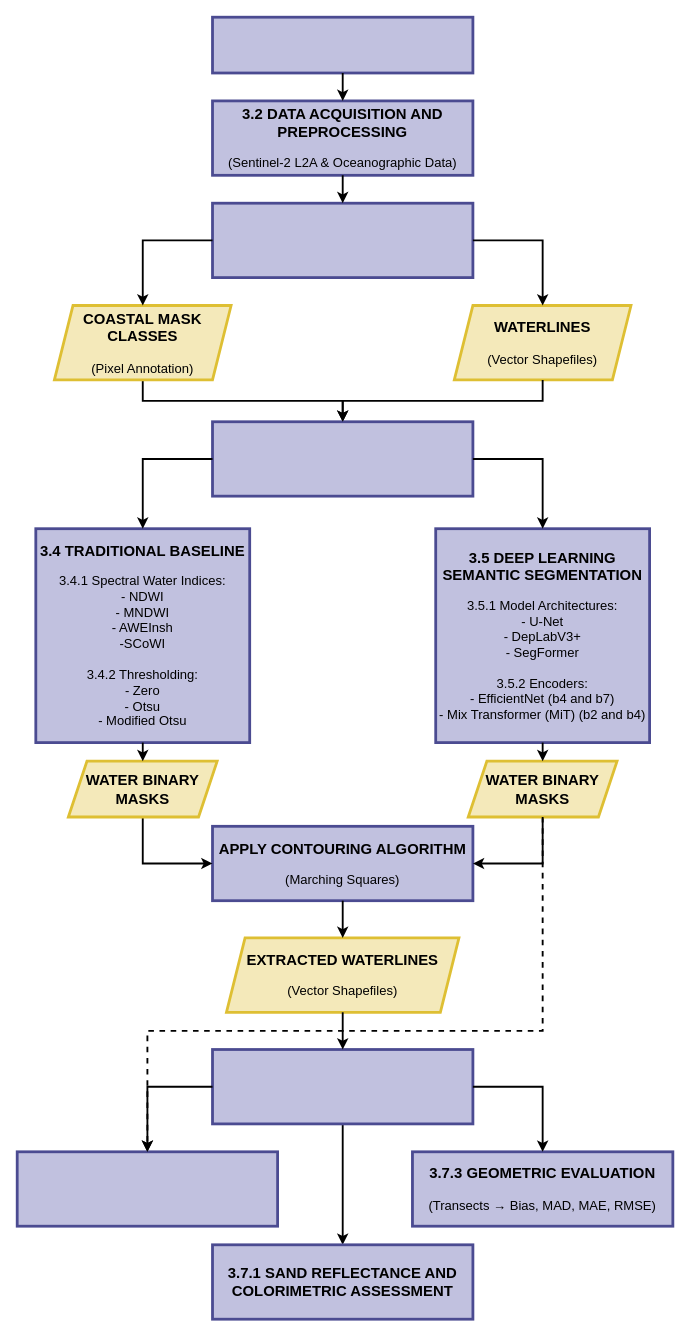
The diagram is 690 pixels wide and 1336 high, and some of its shapes have lost their labels. The centre of each missing label's shape, as x and y in pixels:
"3.1 SELECT STUDY AREAS (Salinas & El Puntal)" goes at pixel 342 44.
"3.3 GROUND TRUTH GENERATION (Reference Datasets)" goes at pixel 342 240.
"3.4-3.6 WATERLINE EXTRACTION PIPELINE" goes at pixel 342 458.
"3.7 EVALUATION METHODOLOGY" goes at pixel 342 1086.
"3.7.2 PIXEL-BASED EVALUATION (IoU, Dice)" goes at pixel 147 1188.
